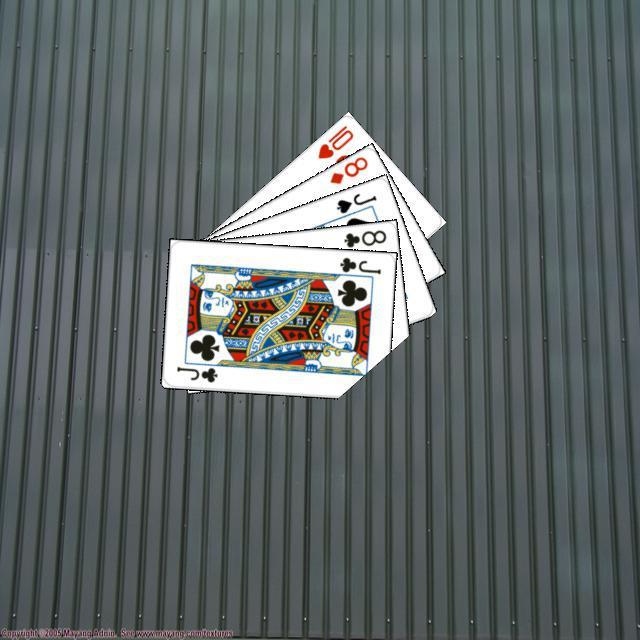10h: (313, 120, 355, 161)
8c: (339, 225, 388, 249)
8d: (325, 152, 370, 186)
Jc: (335, 252, 382, 276), (172, 362, 219, 384)
Js: (332, 188, 378, 215)
